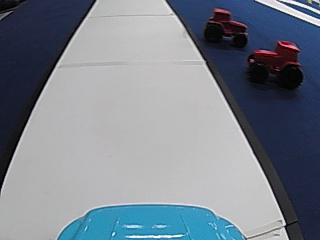Tracktor: (246, 37, 302, 88), (203, 5, 249, 48)
